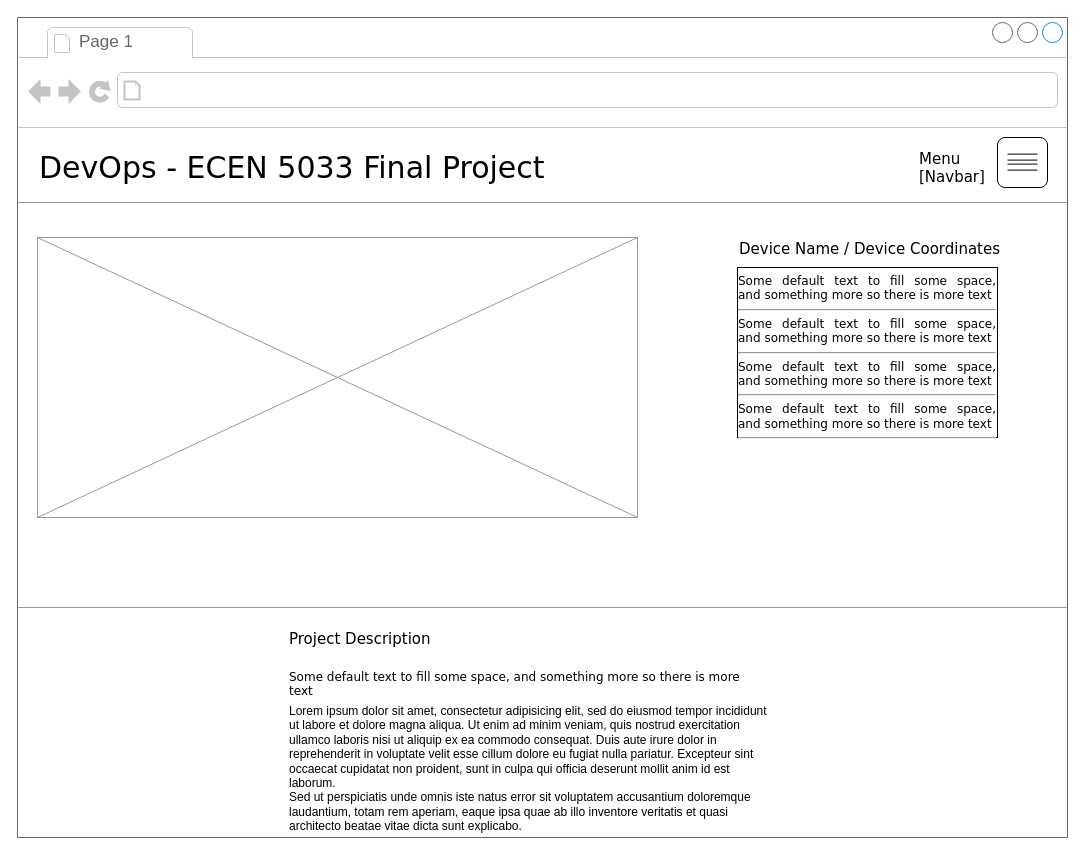
The diagram is 1085 pixels wide and 855 high, and some of its shapes have lost their labels. The centre of each missing label's shape, as x and y in pixels:
"Google Maps API" goes at (542,202).
"https://www.some-domain-name.com" goes at (272,90).
